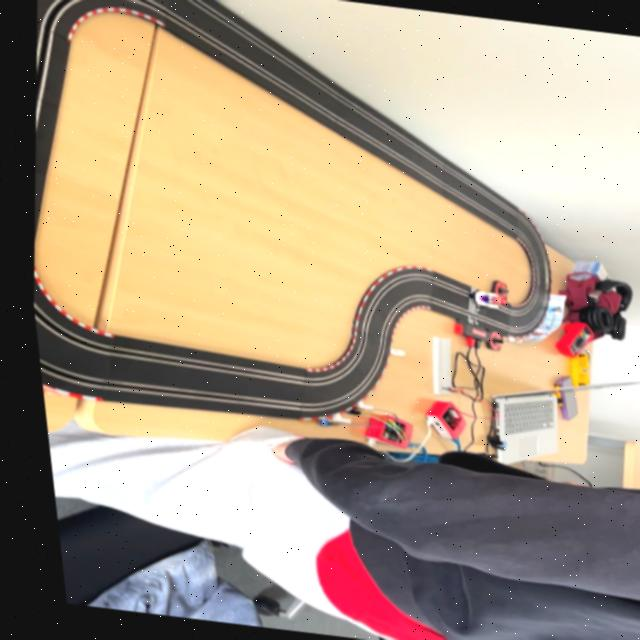mario: (464, 290, 505, 313)
